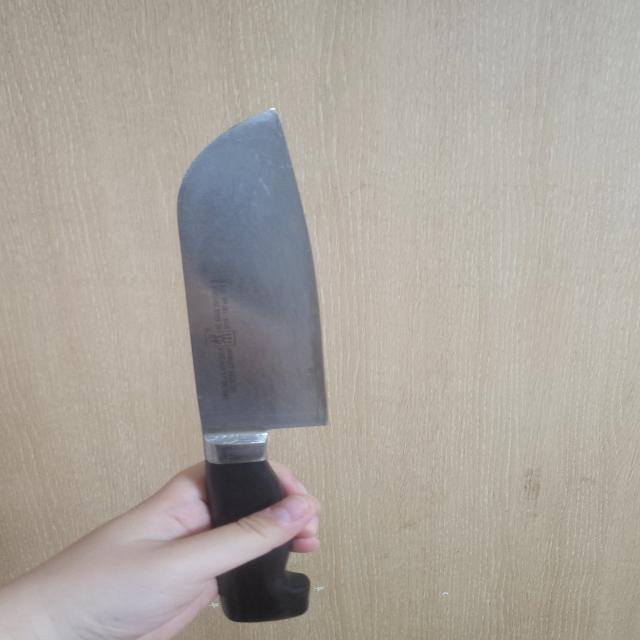knife: (176, 108, 324, 624)
